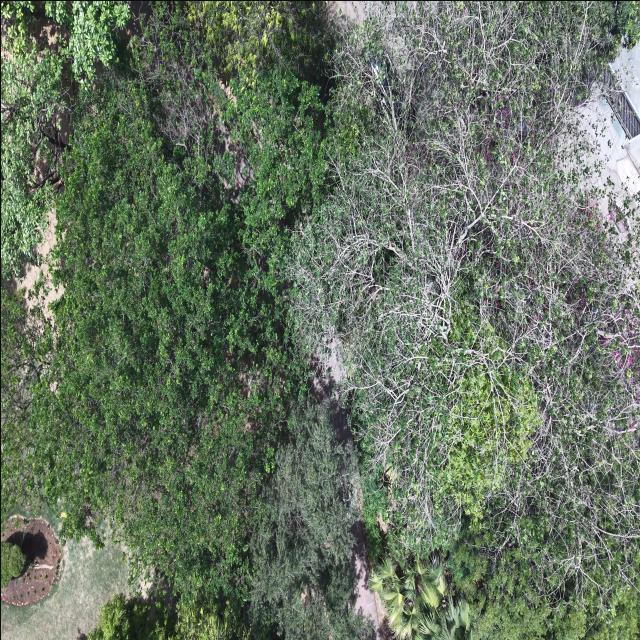DRY_AREA: (1, 538, 128, 639), (13, 209, 62, 319), (1, 517, 61, 606), (351, 521, 383, 639)
VEGETATION_TREE: (1, 1, 639, 639), (291, 3, 639, 638), (32, 76, 312, 602), (90, 402, 367, 639), (1, 1, 131, 280), (250, 403, 364, 639), (1, 14, 70, 280), (187, 1, 332, 85), (1, 288, 50, 513), (1, 1, 131, 83), (370, 555, 471, 639), (88, 594, 176, 639), (1, 542, 25, 587)
